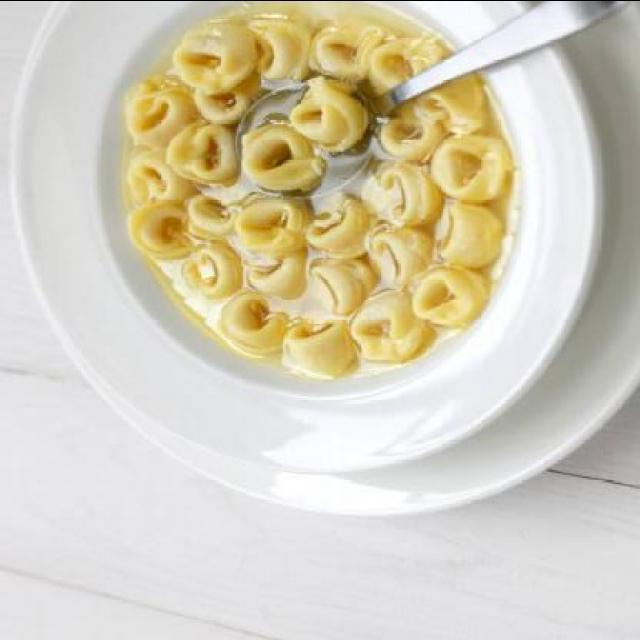Tortellini in broth: (107, 26, 515, 362)
